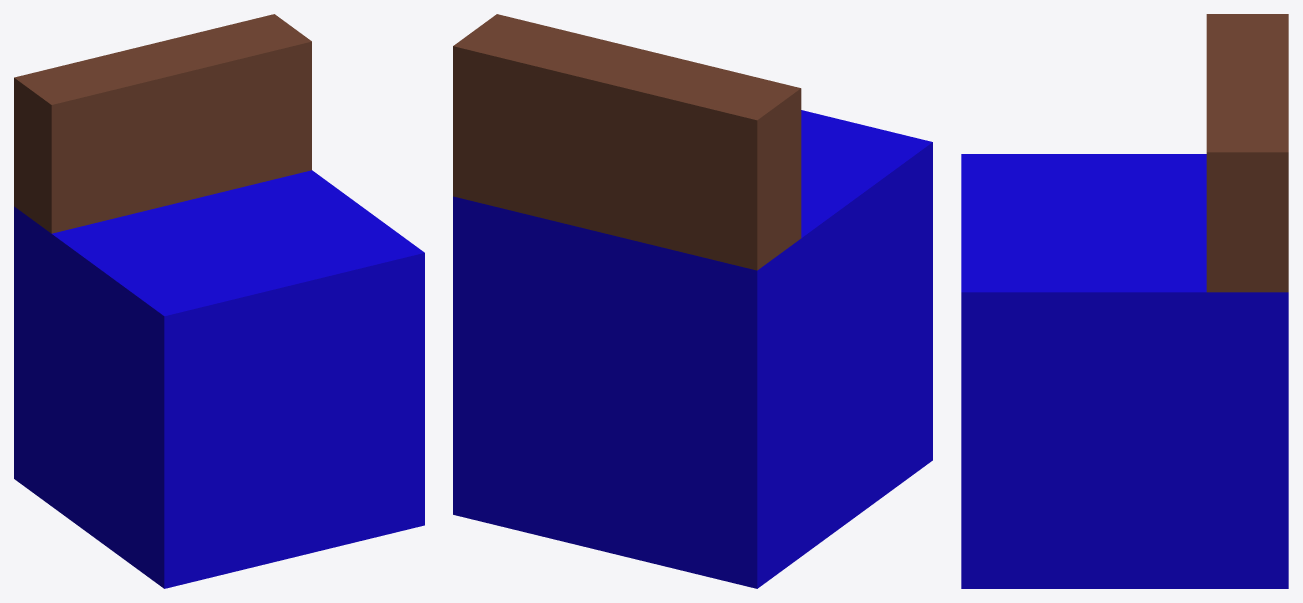
The model's file is Edge.fbx.
3 views of the same model, side by side, from view 1: azimuth 30°, elevation 25°; view 2: azimuth 150°, elevation 25°; view 3: azimuth 270°, elevation 25° (orthographic). The views are drawn at different scales.
Parts seen in each view (by area): view 1: Cube.008; view 2: Cube.008; view 3: Cube.008.
Boxes of the visible parts, x1=… form: Cube.008: x1=14, y1=14, x2=424, y2=588; Cube.008: x1=453, y1=14, x2=932, y2=588; Cube.008: x1=961, y1=14, x2=1288, y2=588.
Bounding box in the file's own units: 200 × 294 × 200.
